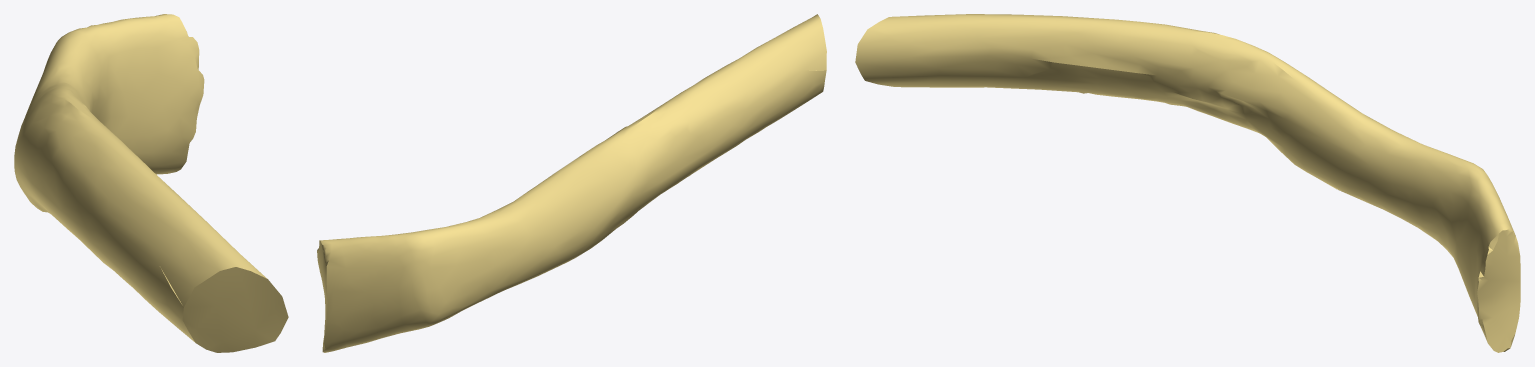
The model's file is fma52615_mm2695m.glb.
3 views of the same model, side by side, from view 1: azimuth 30°, elevation 25°; view 2: azimuth 150°, elevation 25°; view 3: azimuth 270°, elevation 25° (orthographic). The views are drawn at different scales.
Parts seen in each view (by area): view 1: FMA52615_MM2695M; view 2: FMA52615_MM2695M; view 3: FMA52615_MM2695M.
Boxes of the visible parts, x1,y1,x2,y2 form: FMA52615_MM2695M: (14, 14, 288, 352); FMA52615_MM2695M: (317, 14, 826, 352); FMA52615_MM2695M: (855, 14, 1520, 352).
Size of the model in its own units: 0.00787 by 0.00559 by 0.0154.
